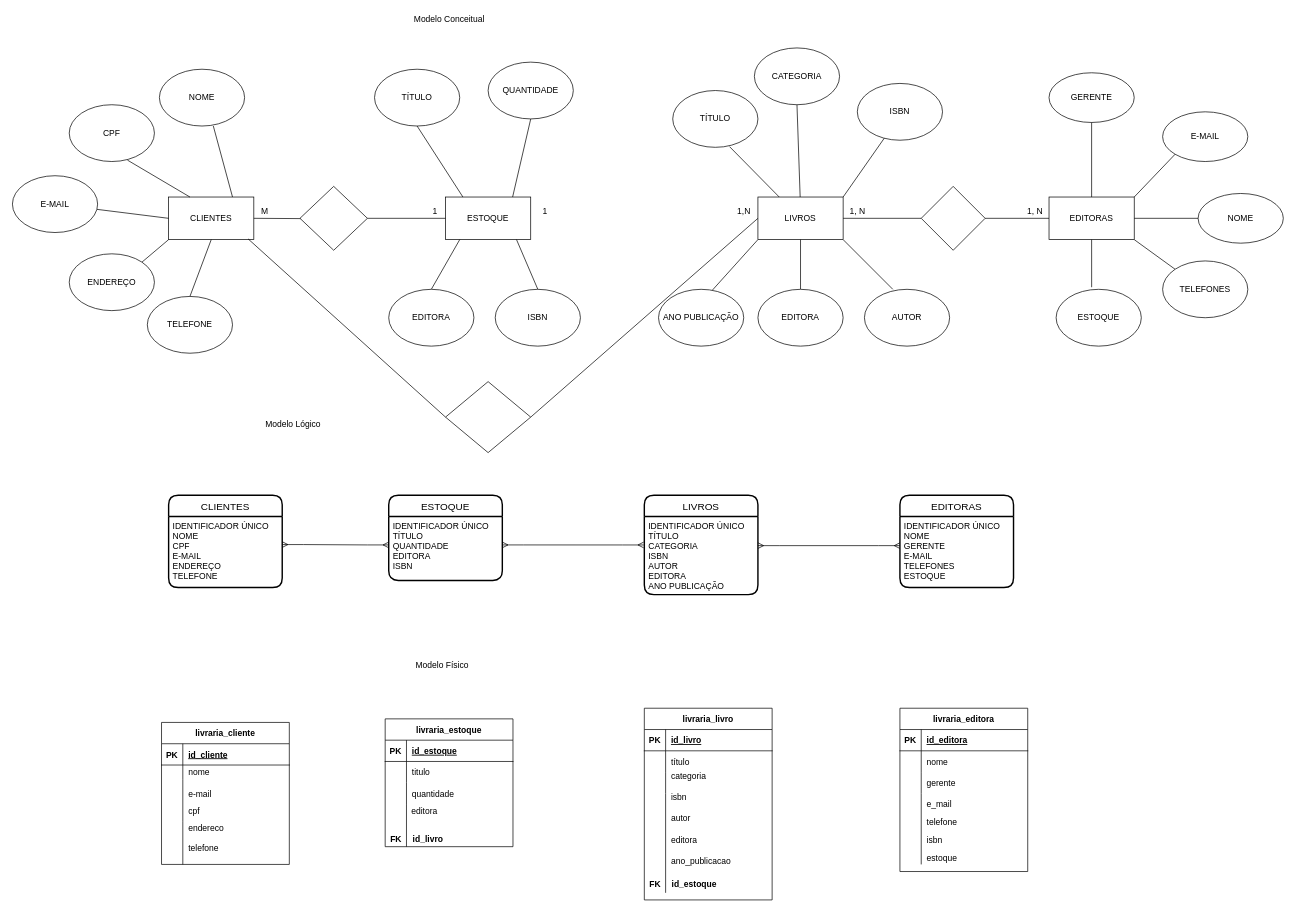
The diagram is 1296 pixels wide and 912 high, and some of its shapes have lost their labels. The shapes that lost their labels are listed below. From the top down, each one's centre as x and y in pixels, then its label:
(333,218): CONSULTAM
(953,218): VENDEM
(488,417): COMPRAM
